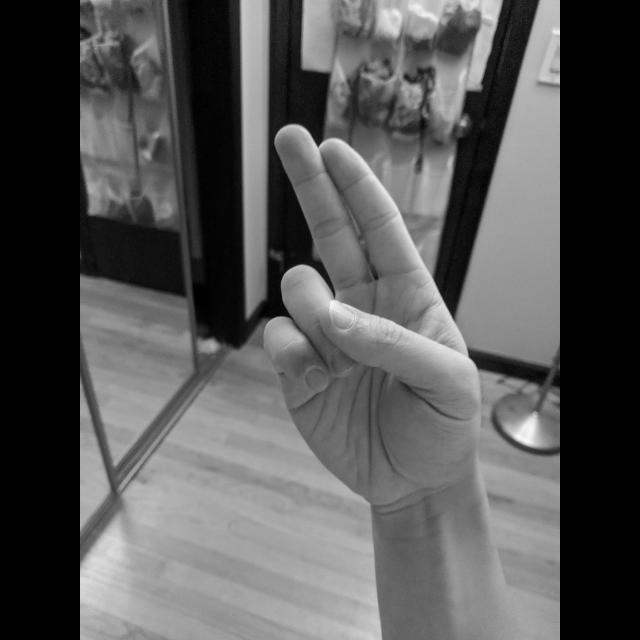U: (259, 118, 491, 506)
